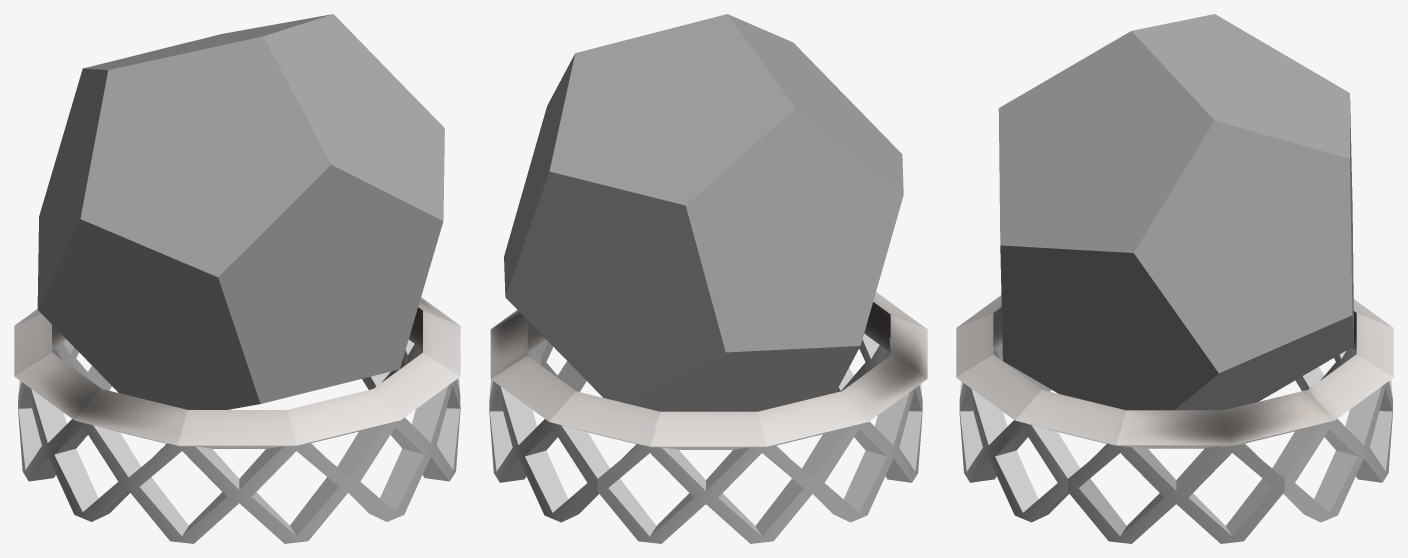
Rendered from HullOrb.fbx.
The picture shows the model from 3 angles, left to right: view 1: azimuth 30°, elevation 25°; view 2: azimuth 150°, elevation 25°; view 3: azimuth 270°, elevation 25°; orthographic projection. The views are drawn at different scales.
Parts seen in each view (by area): view 1: Hull_01; view 2: Hull_01; view 3: Hull_01.
Part boxes in pixels (left/top/right/bottom): Hull_01: left=14, top=14, right=460, bottom=543; Hull_01: left=489, top=14, right=927, bottom=543; Hull_01: left=956, top=14, right=1393, bottom=543.
Size of the model in its own units: 11.52 by 12.3 by 11.51.
